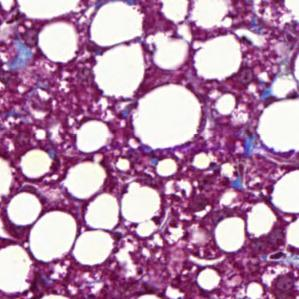steatosis: (135, 88, 204, 149), (23, 211, 76, 264), (119, 183, 164, 221), (77, 115, 109, 158)
